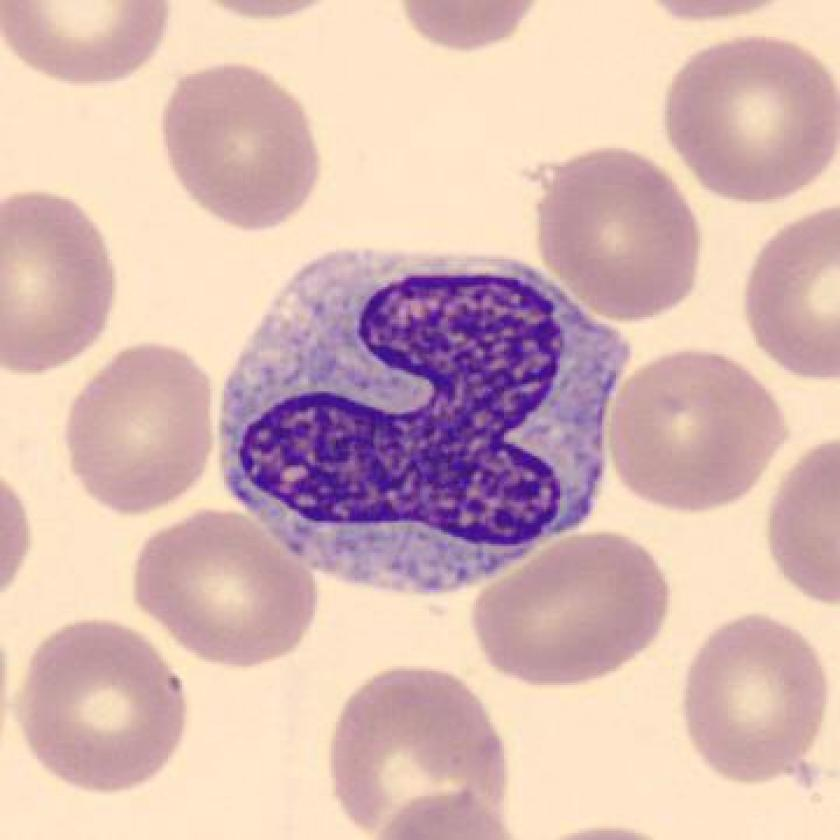monocyte: (204, 223, 640, 612)
